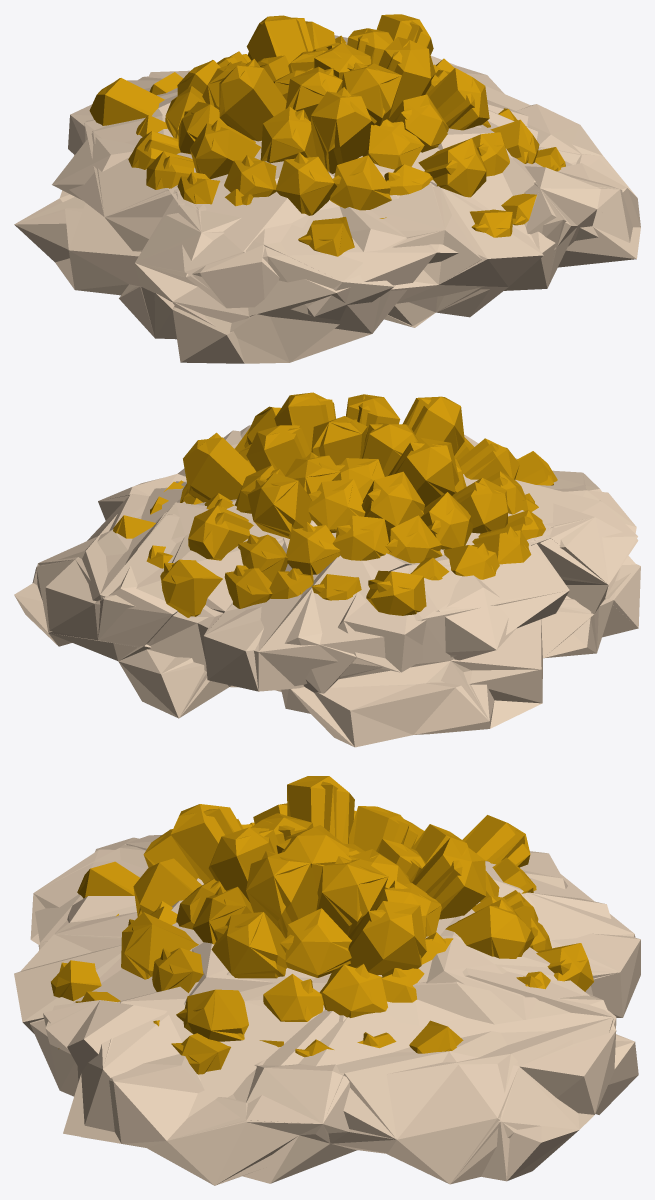
File: agulite_all_lods.fbx
3 renders of one model, top to bottom at view 1: azimuth 30°, elevation 25°; view 2: azimuth 150°, elevation 25°; view 3: azimuth 270°, elevation 25°, orthographic. The views are drawn at different scales.
Visible parts, largest first — view 1: agulite_lod1_low, agulite_base_lod1_low, agulite_base_lod2_low, agulite_base_lod3_low, agulite_lod2_low, agulite_lod3_low; view 2: agulite_lod1_low, agulite_base_lod1_low, agulite_base_lod2_low, agulite_base_lod3_low, agulite_lod2_low, agulite_lod3_low; view 3: agulite_lod1_low, agulite_base_lod1_low, agulite_base_lod2_low, agulite_base_lod3_low, agulite_lod2_low, agulite_lod3_low.
Part boxes in pixels (x1,y1,x2,y2): agulite_lod1_low: (89, 14, 565, 256); agulite_base_lod1_low: (14, 37, 640, 363); agulite_base_lod2_low: (15, 64, 635, 363); agulite_base_lod3_low: (16, 35, 615, 362); agulite_lod2_low: (91, 14, 564, 244); agulite_lod3_low: (119, 17, 519, 256); agulite_lod1_low: (118, 392, 557, 616); agulite_base_lod1_low: (14, 430, 640, 747); agulite_base_lod2_low: (32, 425, 638, 746); agulite_base_lod3_low: (37, 458, 637, 746); agulite_lod2_low: (148, 394, 553, 617); agulite_lod3_low: (113, 395, 507, 608); agulite_lod1_low: (51, 776, 593, 1073); agulite_base_lod1_low: (14, 837, 640, 1185); agulite_base_lod2_low: (21, 835, 638, 1185); agulite_base_lod3_low: (30, 835, 634, 1180); agulite_lod2_low: (56, 776, 587, 1063); agulite_lod3_low: (54, 776, 585, 1074).
Size of the model in its own units: 4.11 by 1.76 by 4.03.
